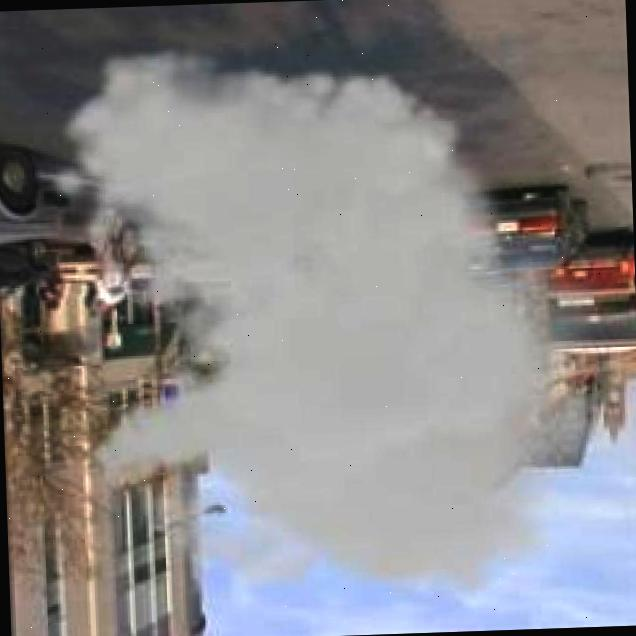smoke: (39, 29, 624, 614)
